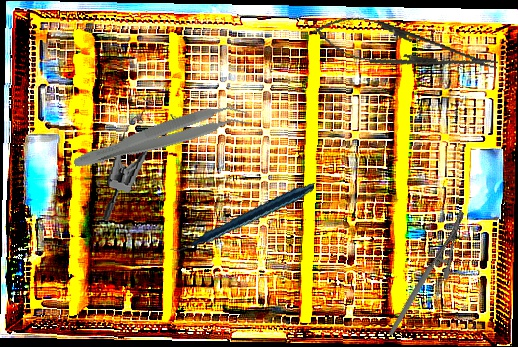Handpiece: (170, 158, 315, 275)
Needle Holder: (357, 209, 495, 337), (309, 8, 502, 88)
Speculum: (101, 94, 180, 230)
Tissue Forceps: (70, 95, 252, 182)
